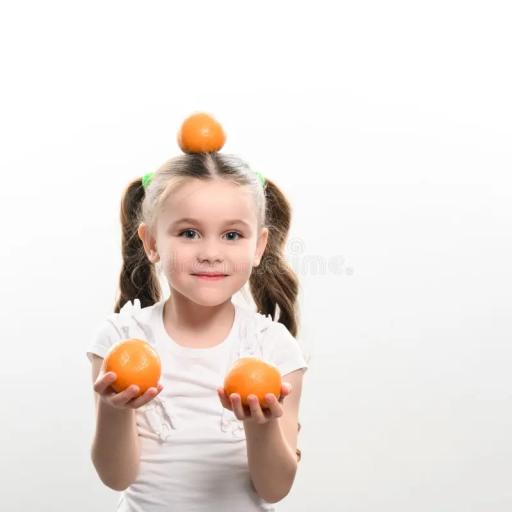orange: (104, 338, 161, 396), (224, 358, 281, 408), (178, 112, 226, 153)
